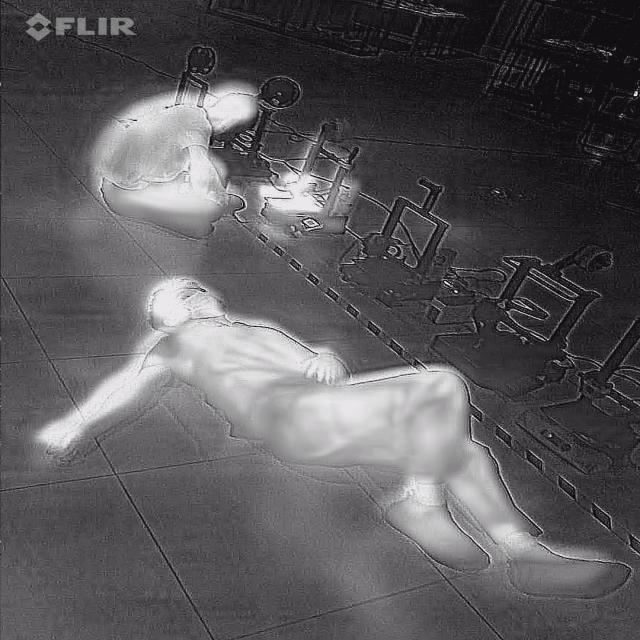Victim: (27, 266, 635, 607), (81, 82, 261, 243)
